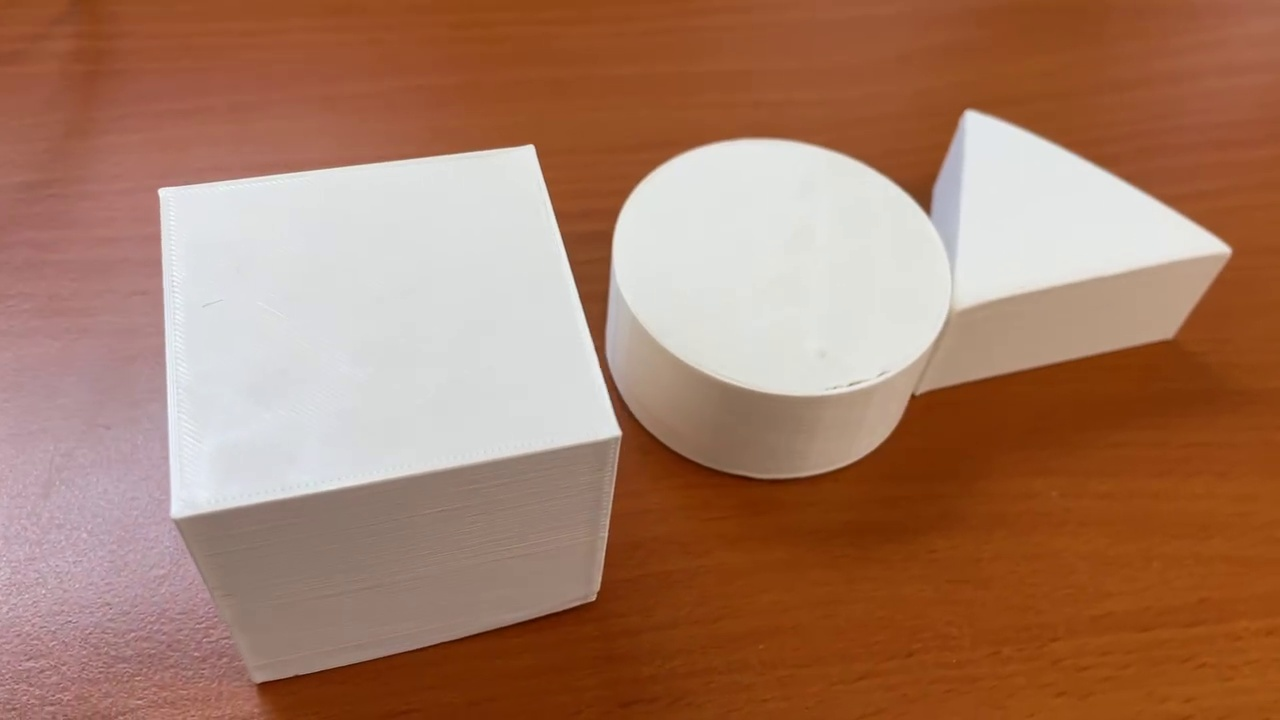Cube: (152, 142, 622, 683)
Cylinder_short: (613, 132, 950, 482)
Triangle_short: (915, 110, 1235, 397)
